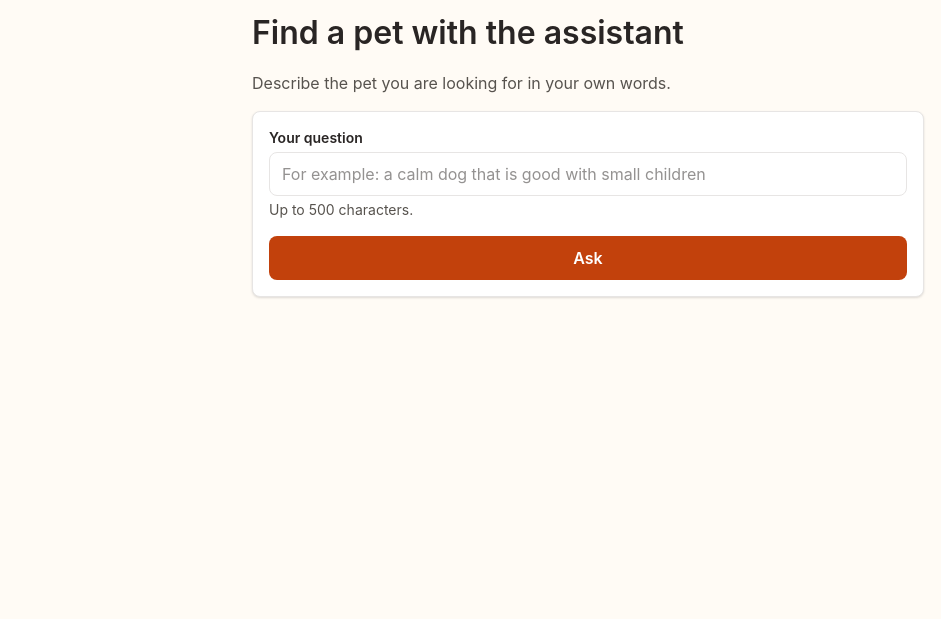
Test case: AssistantPage › opens the details page when an ad card is clicked
Type "a calm dog" into the field labelled "Your question" at {"x": 588, "y": 174}, box [269,152,907,196]
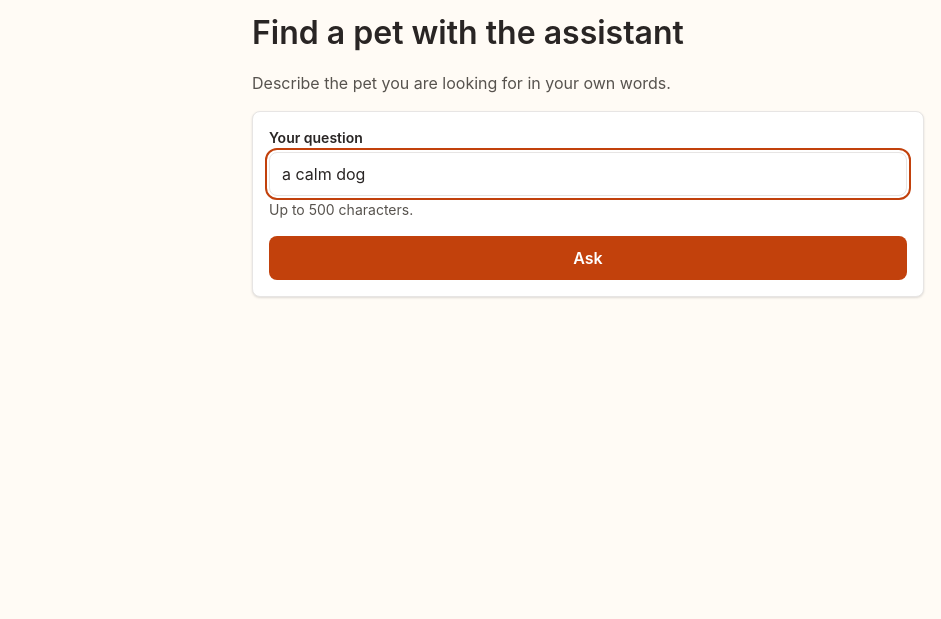
Click the button "Ask" at {"x": 588, "y": 258}, box [269,236,907,280]
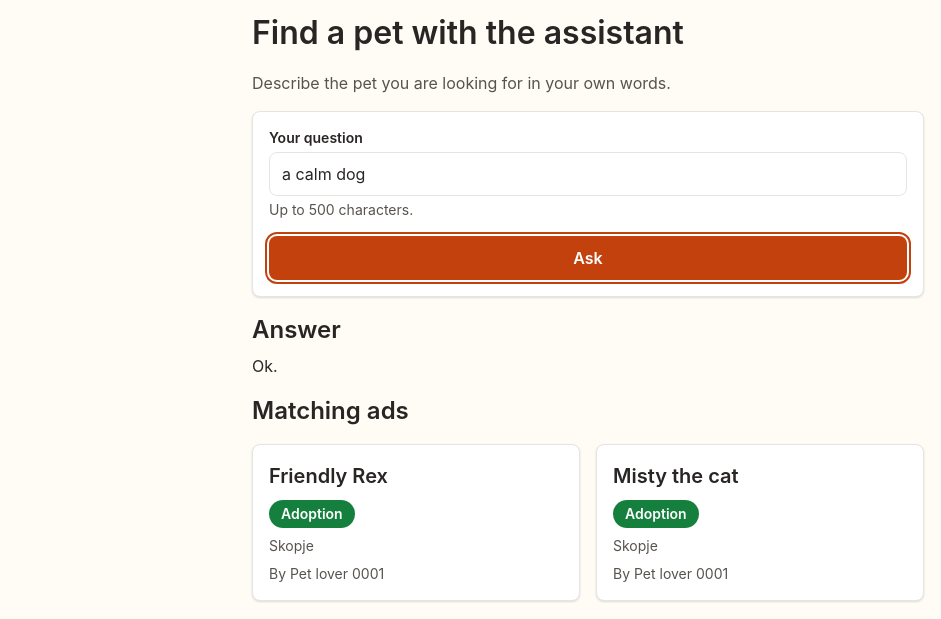
Click the link "Misty the cat Adoption Skopje By Pet lover 0001" at {"x": 760, "y": 522}, box [596,444,924,601]
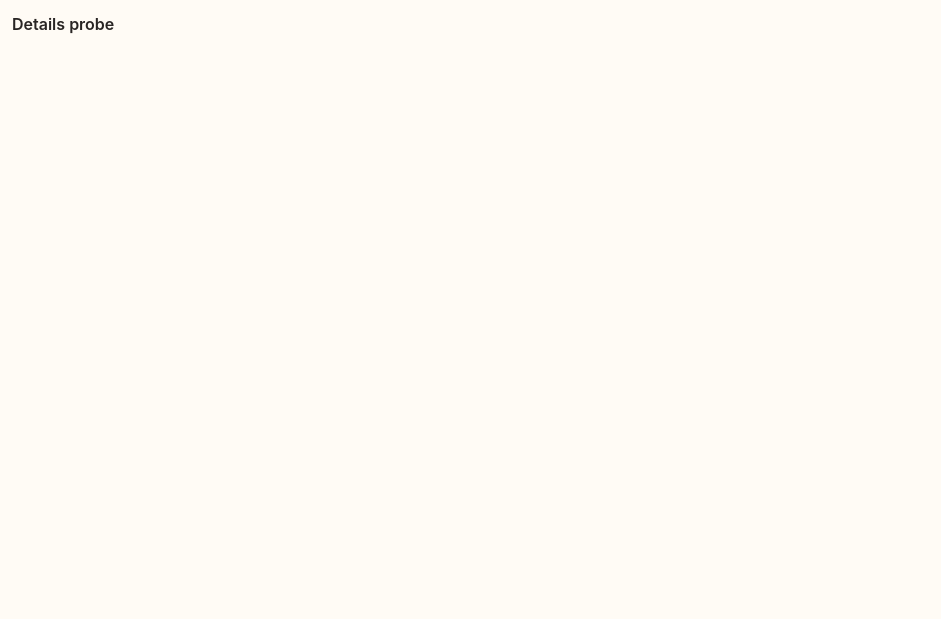
Now the heading "Details probe" is shown, box [12,14,114,34]
